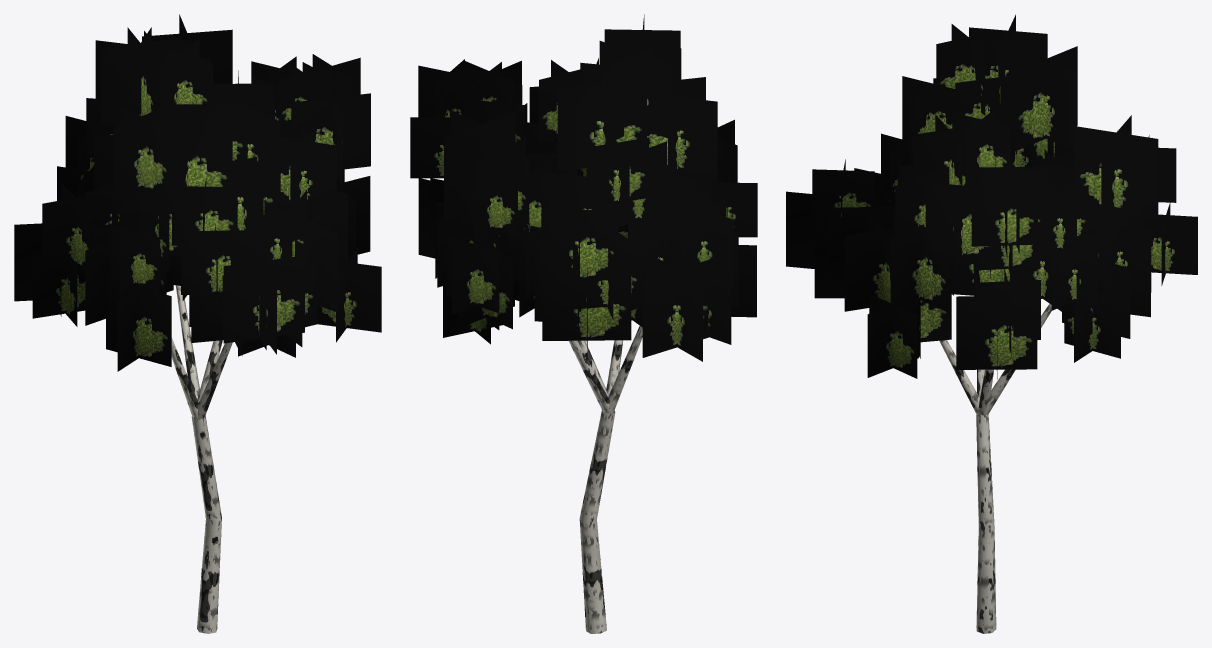
File: birch0_lod0.fbx
3 renders of one model, left to right at view 1: azimuth 30°, elevation 25°; view 2: azimuth 150°, elevation 25°; view 3: azimuth 270°, elevation 25°, orthographic. The views are drawn at different scales.
Visible parts, largest first — view 1: birch0_lod0; view 2: birch0_lod0; view 3: birch0_lod0.
Part boxes in pixels (x1,y1,x2,y2): birch0_lod0: (14, 14, 381, 633); birch0_lod0: (410, 14, 757, 633); birch0_lod0: (786, 14, 1197, 633).
Size of the model in its own units: 7.61 by 13.39 by 8.68.
Materials: 2 (2 with a texture image).
